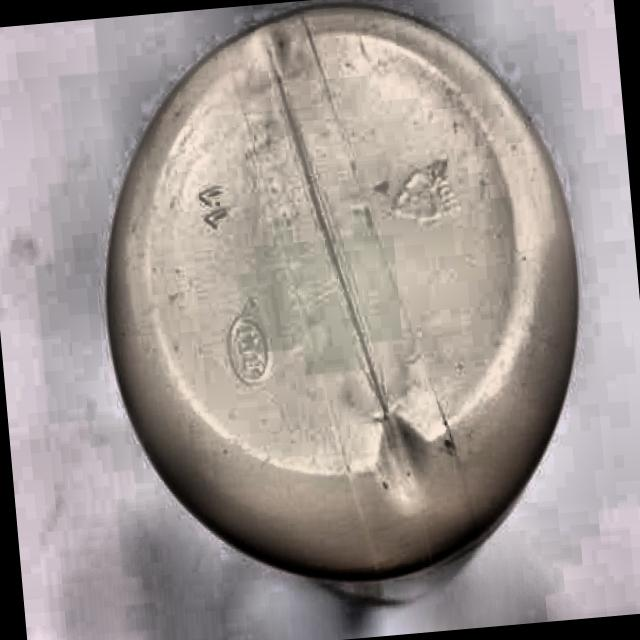plastic: (82, 0, 607, 623)
